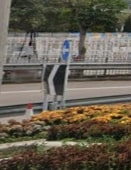Turn Left: (60, 39, 72, 60)
Turn Left(quick): (42, 63, 66, 96)
